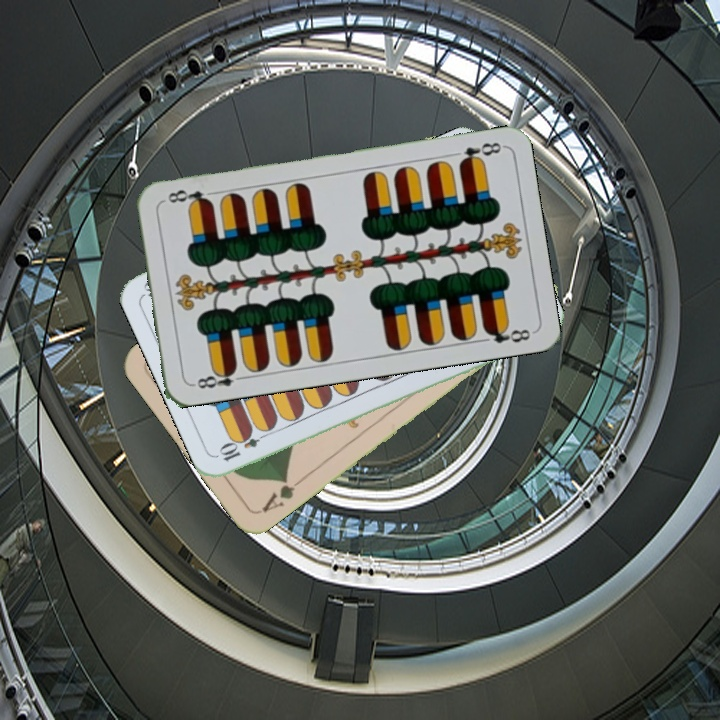E10: (215, 426, 272, 464)
E8: (188, 363, 248, 392), (455, 138, 504, 168)
GA: (257, 473, 307, 516)
